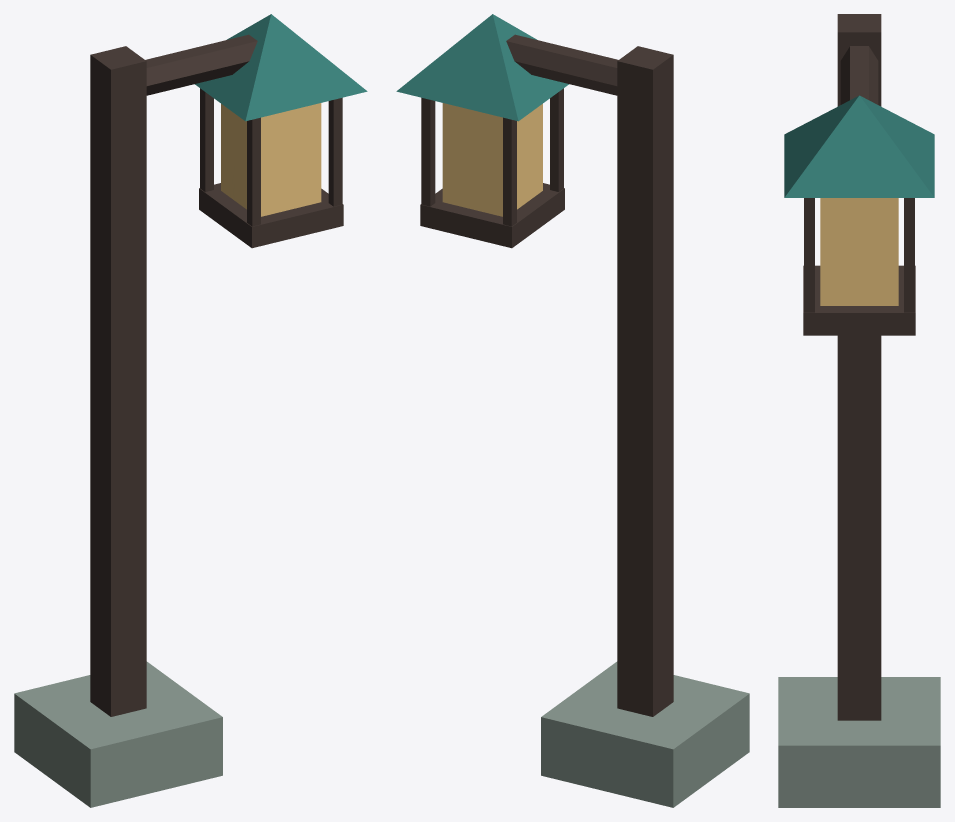
File: lucerna.glb
3 renders of one model, left to right at view 1: azimuth 30°, elevation 25°; view 2: azimuth 150°, elevation 25°; view 3: azimuth 270°, elevation 25°, orthographic. The views are drawn at different scales.
Parts seen in each view (by area): view 1: material_483b36, material_8b9b92, material_357c76, material_ffd68a; view 2: material_483b36, material_8b9b92, material_357c76, material_ffd68a; view 3: material_483b36, material_8b9b92, material_357c76, material_ffd68a.
Boxes of the visible parts, x1,y1,x2,y2 form: material_483b36: (90,34,343,716); material_8b9b92: (14,661,222,807); material_357c76: (195,14,367,121); material_ffd68a: (221,103,321,216); material_483b36: (420,34,673,716); material_8b9b92: (541,661,749,807); material_357c76: (396,14,568,121); material_ffd68a: (442,103,542,216); material_483b36: (803,14,915,720); material_8b9b92: (778,677,940,807); material_357c76: (784,95,934,197); material_ffd68a: (820,198,898,305).
Bounding box in the file's own units: 1.1 × 2.67 × 0.52.
